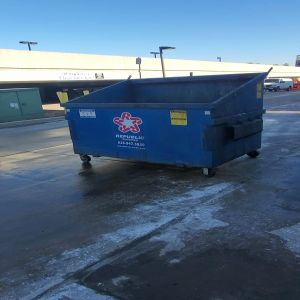Dumpster: (59, 75, 270, 180)
